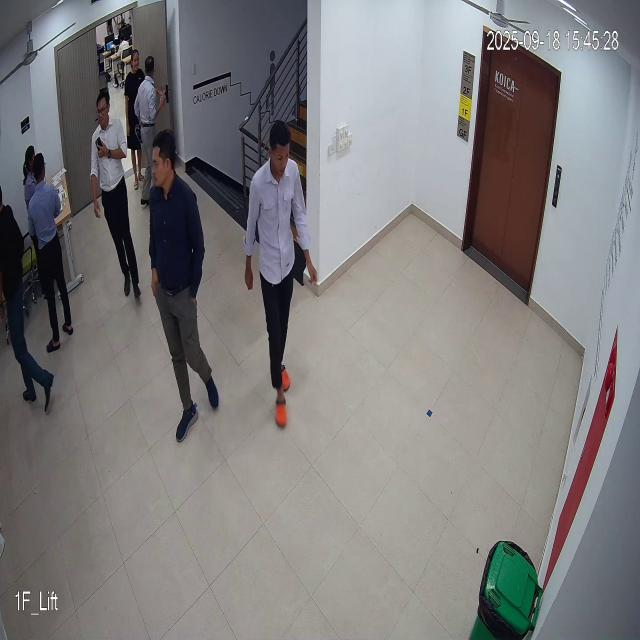face: (148, 130, 175, 190), (268, 122, 295, 178)
